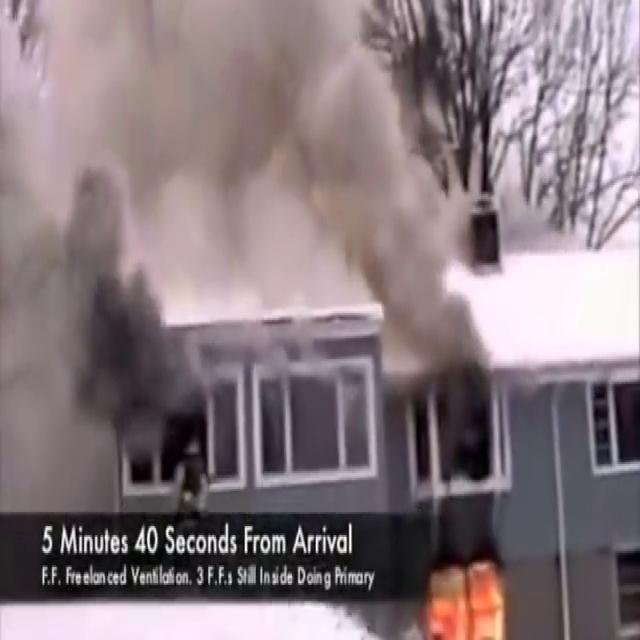Fire: (417, 550, 518, 639)
Smoke: (1, 1, 459, 332), (0, 1, 210, 478)
